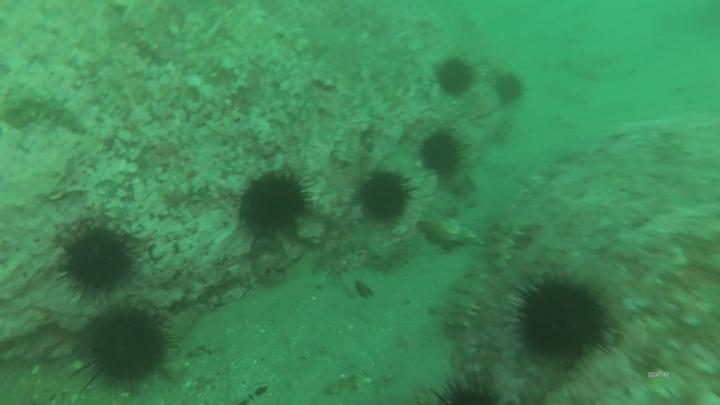echinus: (509, 264, 618, 369), (60, 304, 176, 394), (56, 224, 144, 302), (237, 170, 323, 240), (359, 168, 414, 225), (425, 372, 514, 405), (418, 131, 465, 178), (437, 55, 478, 101), (493, 70, 528, 110)
holothurian: (1, 81, 92, 138), (440, 260, 497, 343), (485, 213, 533, 277)
